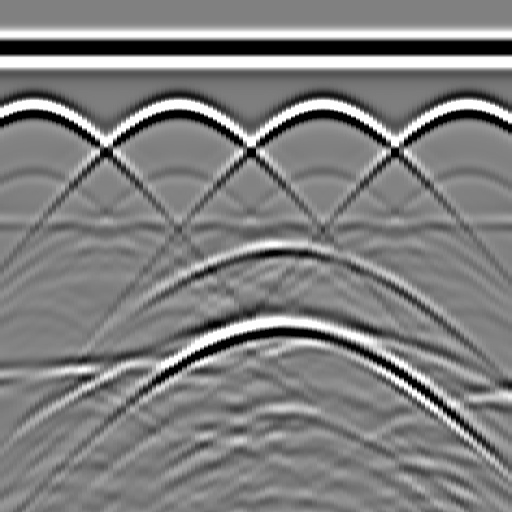grout_surface: (1, 210, 512, 240)
rebar: (12, 88, 52, 128), (156, 88, 196, 128), (300, 88, 340, 128), (444, 88, 484, 128)
rock_surface: (1, 325, 511, 398)
water_void: (253, 223, 313, 263)
